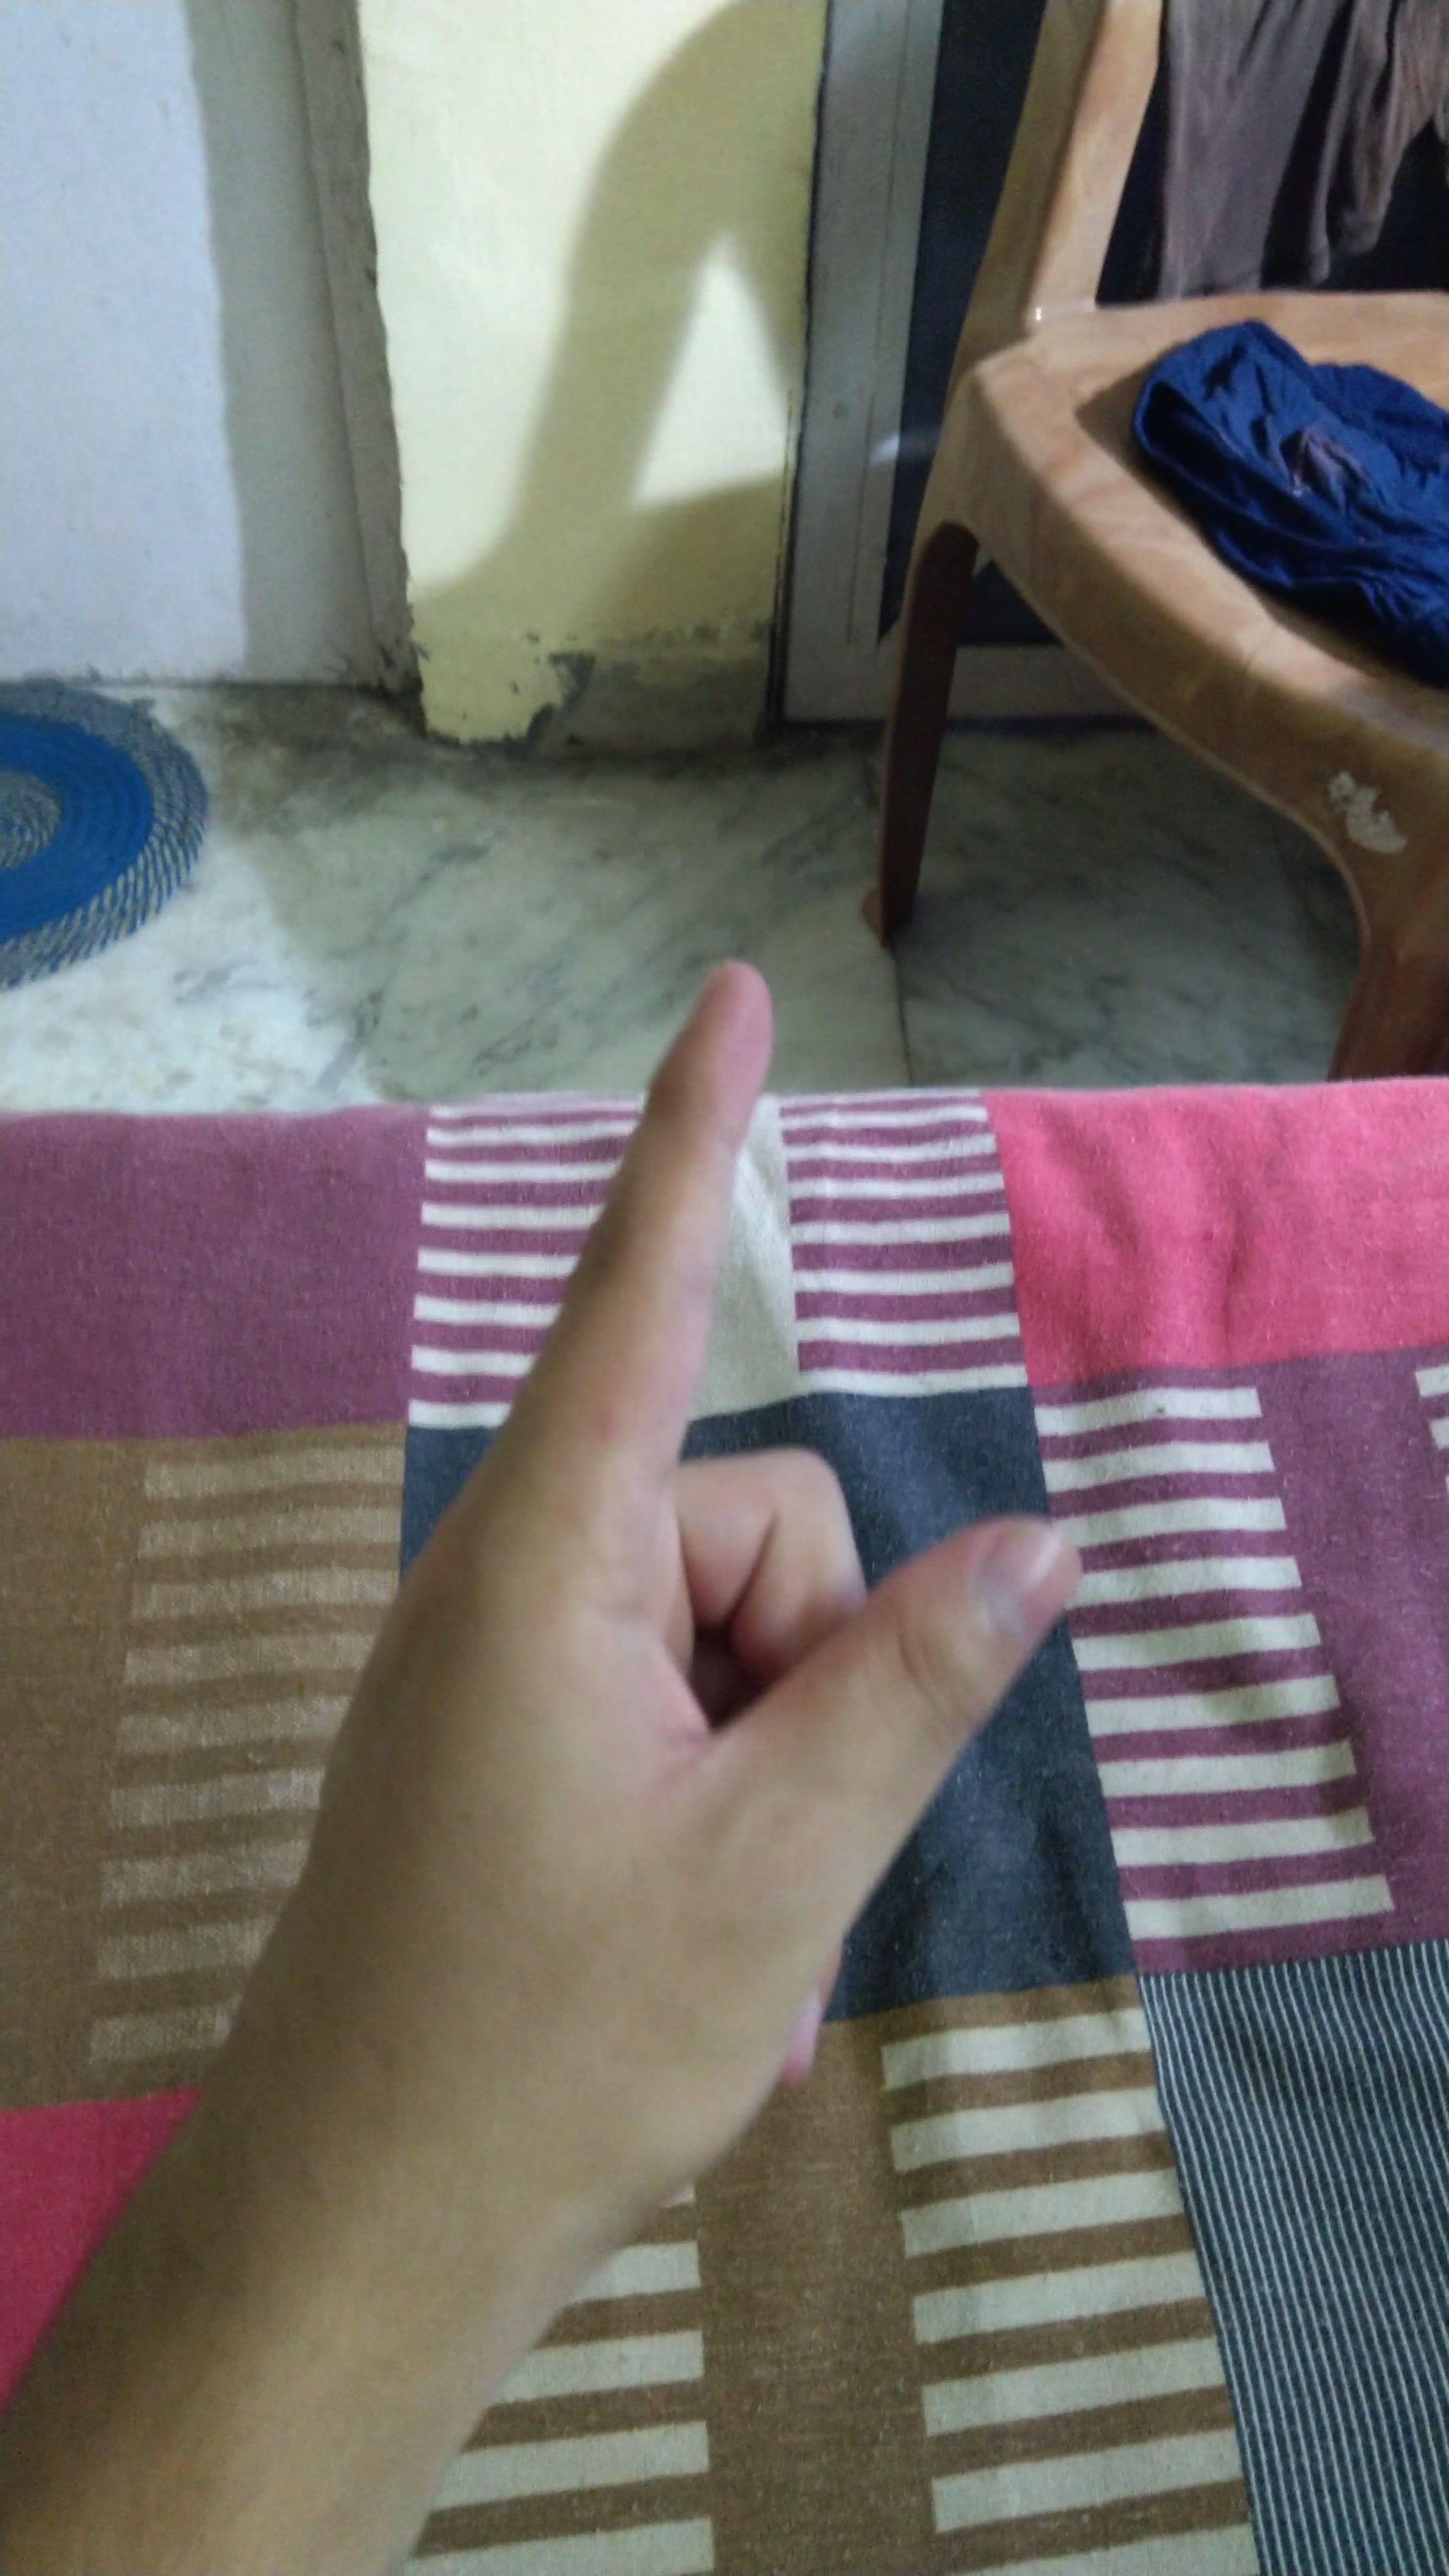hand: (248, 916, 1184, 2261)
